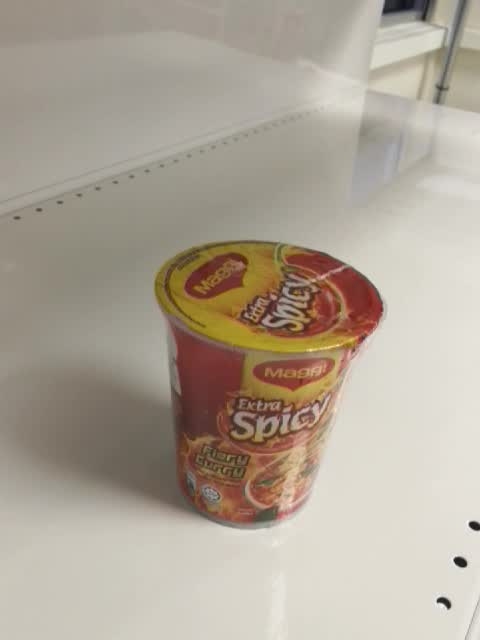maggi: (153, 239, 386, 531)
